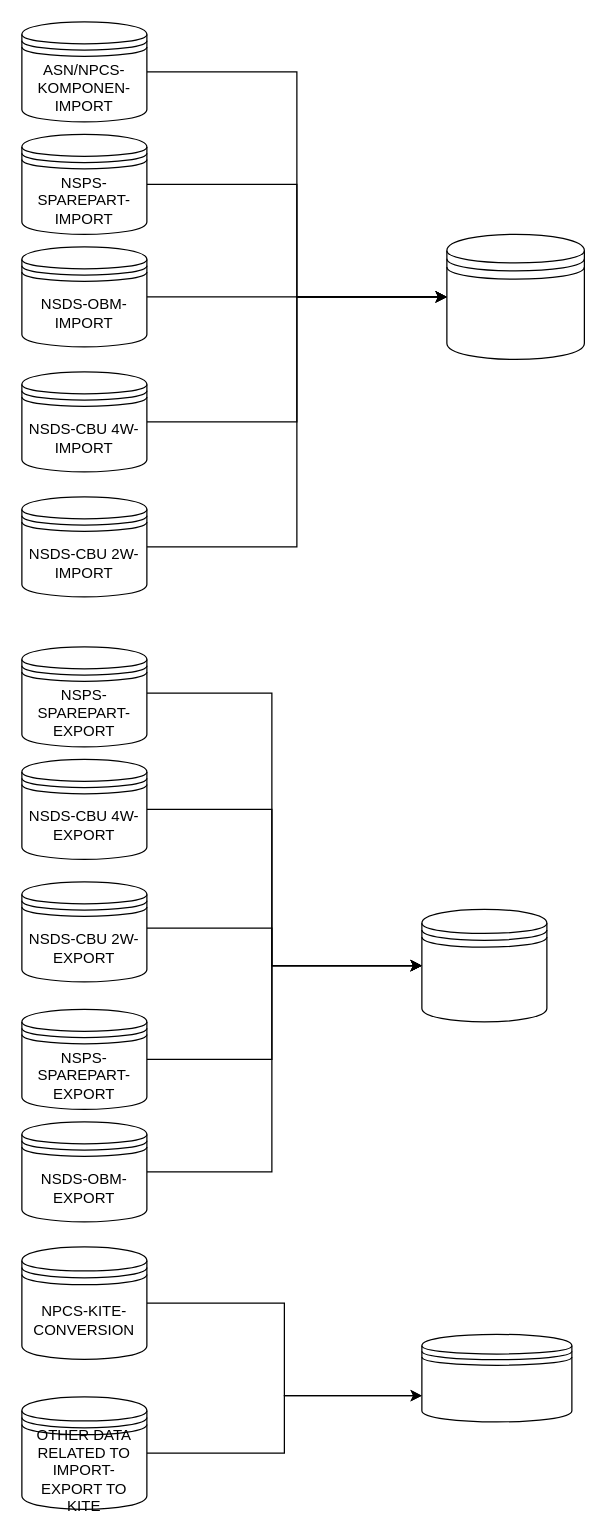
This 606x1538 diagram has some shape labels left out. The centre of each missing label's shape, as x and y in pixels:
"SILO EXPORT" goes at pixel 484 965.
"SILO IMPORT" goes at pixel 515 296.
"SILO KITE" goes at pixel 496 1377.
